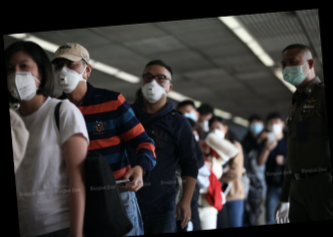with_mask: (7, 58, 37, 103), (53, 59, 81, 95), (141, 70, 167, 103), (281, 55, 308, 86), (268, 116, 285, 135), (210, 124, 227, 140), (197, 116, 213, 133), (179, 107, 197, 122), (249, 118, 265, 134)
